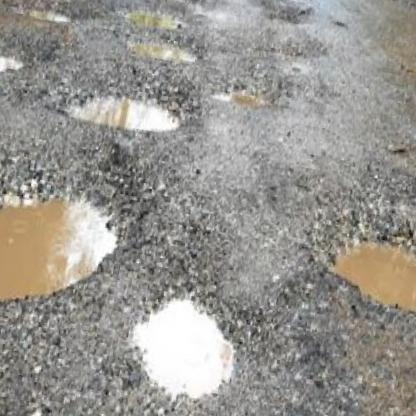pothole: (0, 151, 133, 330), (112, 274, 253, 416), (314, 220, 416, 324), (57, 77, 187, 141), (129, 35, 203, 70), (122, 1, 188, 35), (210, 79, 275, 112), (0, 36, 25, 85), (27, 2, 74, 28)
